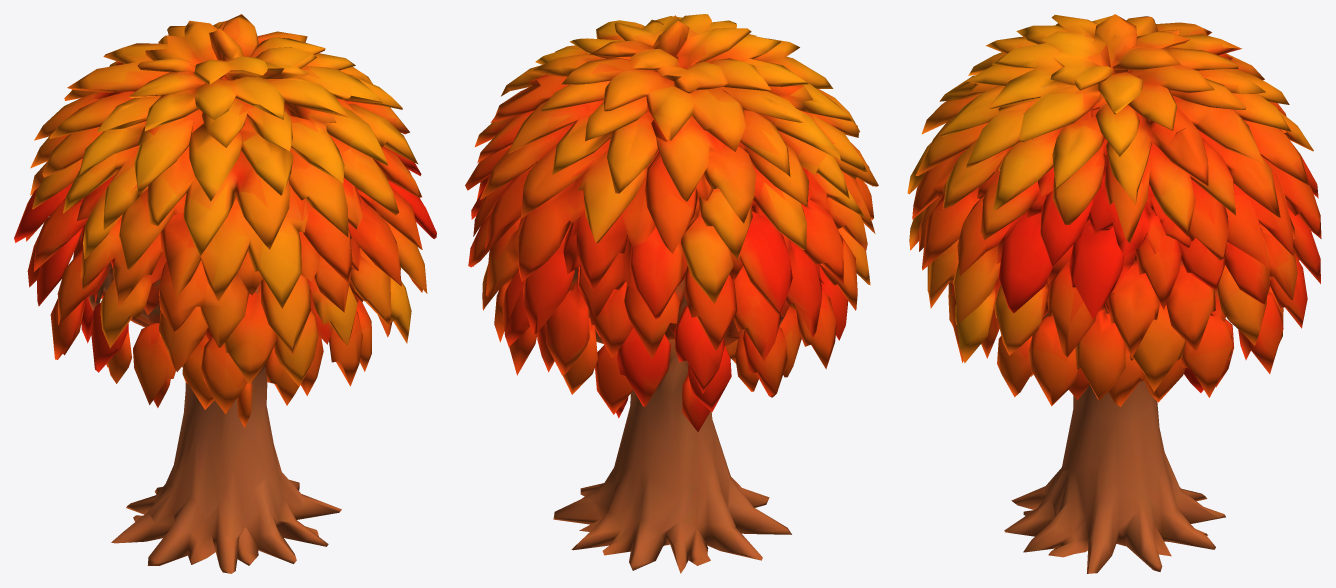
Rendered from tree_autumn.glb.
The picture shows the model from 3 angles, left to right: view 1: azimuth 30°, elevation 25°; view 2: azimuth 150°, elevation 25°; view 3: azimuth 270°, elevation 25°; orthographic projection.
Parts seen in each view (by area): view 1: tripo_node_16fedd0f-b9ad-43a3-a88a-498c10222b4e; view 2: tripo_node_16fedd0f-b9ad-43a3-a88a-498c10222b4e; view 3: tripo_node_16fedd0f-b9ad-43a3-a88a-498c10222b4e.
Part boxes in pixels (x1,y1,x2,y2): tripo_node_16fedd0f-b9ad-43a3-a88a-498c10222b4e: [14, 14, 436, 573]; tripo_node_16fedd0f-b9ad-43a3-a88a-498c10222b4e: [465, 14, 878, 573]; tripo_node_16fedd0f-b9ad-43a3-a88a-498c10222b4e: [907, 14, 1321, 573].
Bounding box in the file's own units: 3.64 × 4.81 × 3.54.
Materials: 1 (1 with a texture image).
